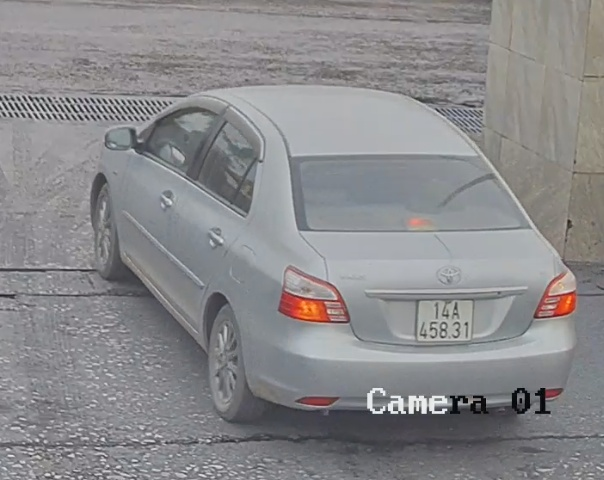vehicle plate: (414, 292, 475, 343)
